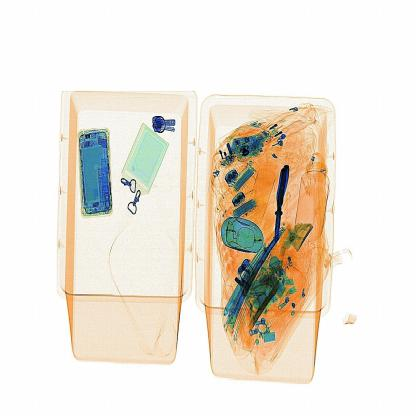gun: (262, 150, 296, 253)
